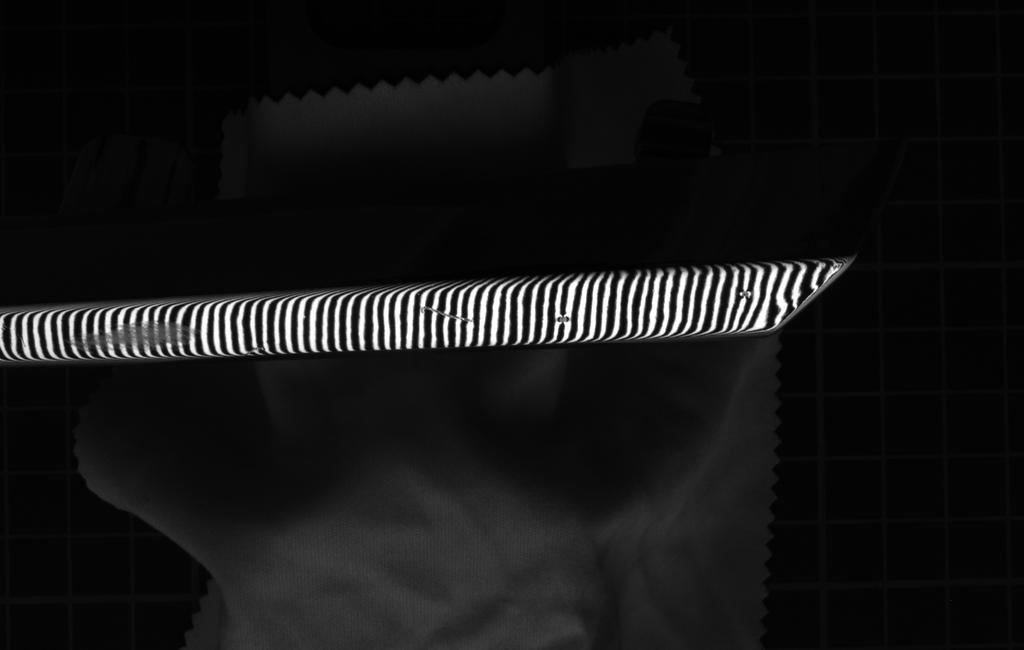Pierced: (548, 310, 579, 328), (733, 284, 758, 303)
Pitting: (54, 319, 210, 352)
Scratch: (397, 300, 488, 332)
